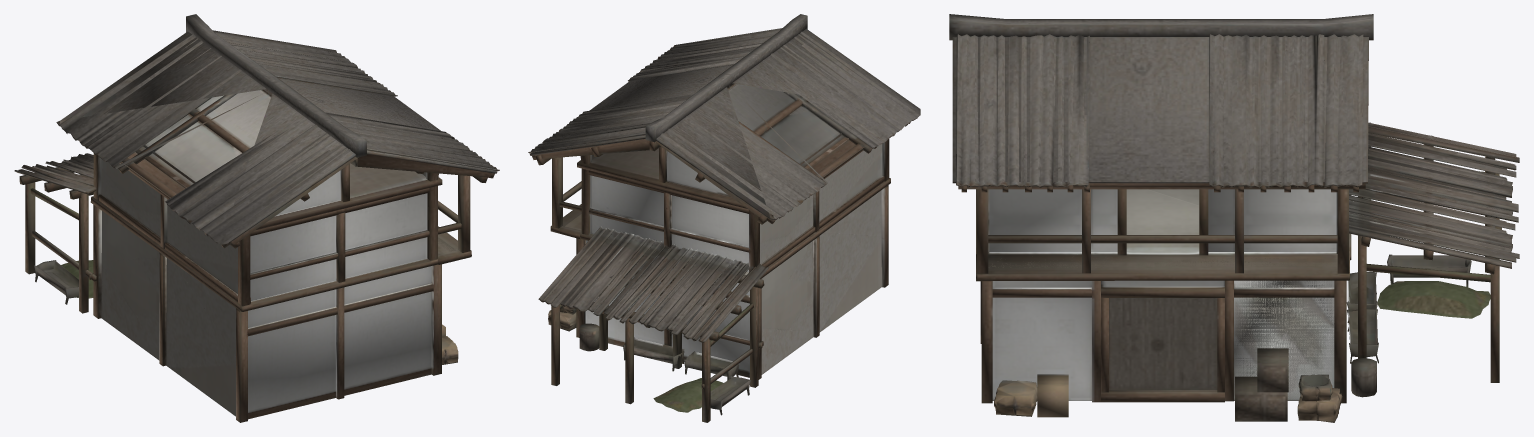
File: horseStation_polish.fbx
3 views of the same model, side by side, from view 1: azimuth 30°, elevation 25°; view 2: azimuth 150°, elevation 25°; view 3: azimuth 270°, elevation 25° (orthographic). The views are drawn at different scales.
Parts seen in each view (by area): view 1: tripo_node_148a45b4; view 2: tripo_node_148a45b4; view 3: tripo_node_148a45b4.
Boxes of the visible parts, bbox=[...] form: tripo_node_148a45b4: bbox=[14, 14, 499, 422]; tripo_node_148a45b4: bbox=[528, 14, 920, 422]; tripo_node_148a45b4: bbox=[949, 14, 1519, 422].
Size of the model in its own units: 0.6973 by 0.6387 by 0.998.
